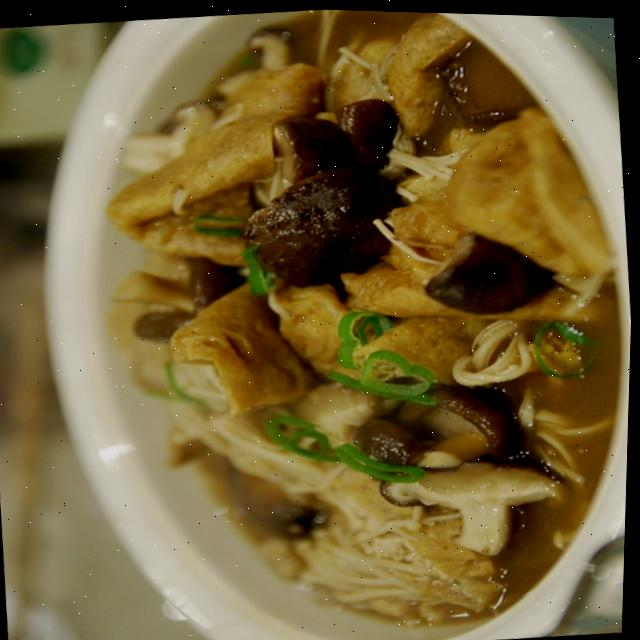汤锅炖物: (14, 1, 640, 640)
